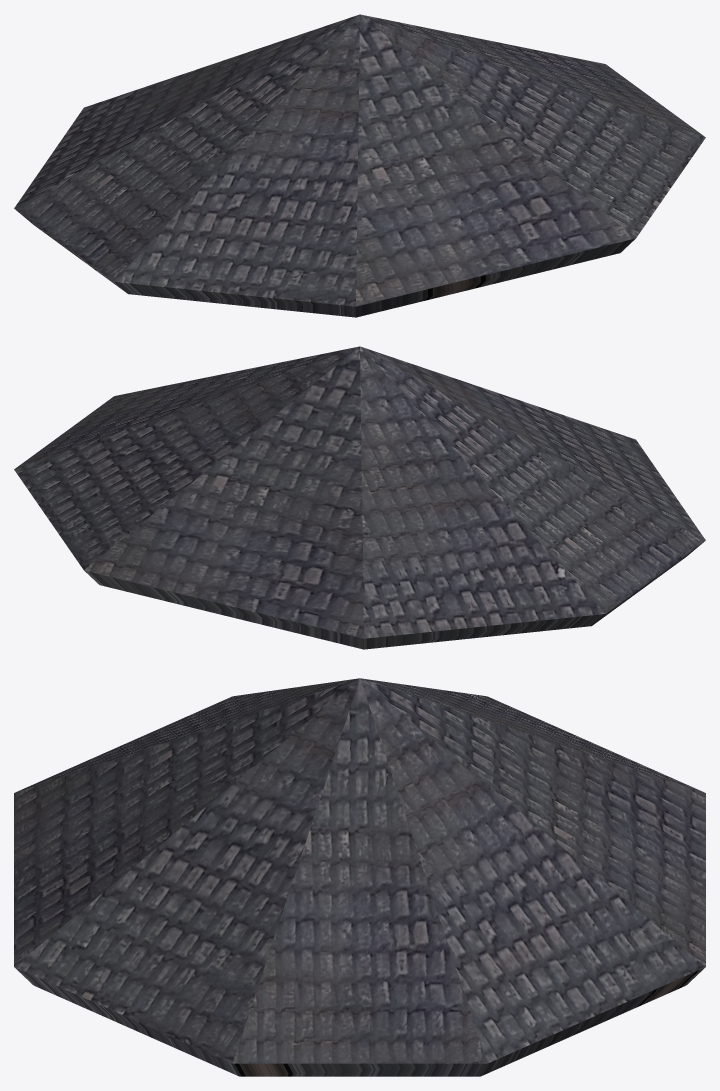
Rendered from Roof8.fbx.
The picture shows the model from 3 angles, top to bottom: view 1: azimuth 30°, elevation 25°; view 2: azimuth 150°, elevation 25°; view 3: azimuth 270°, elevation 25°; orthographic projection. The views are drawn at different scales.
Visible parts, largest first — view 1: Roof8; view 2: Roof8; view 3: Roof8.
Part boxes in pixels (<box>): Roof8: <box>14,14,705,317</box>; Roof8: <box>14,346,705,649</box>; Roof8: <box>14,678,705,1076</box>.
Size of the model in its own units: 574 by 164 by 457.
